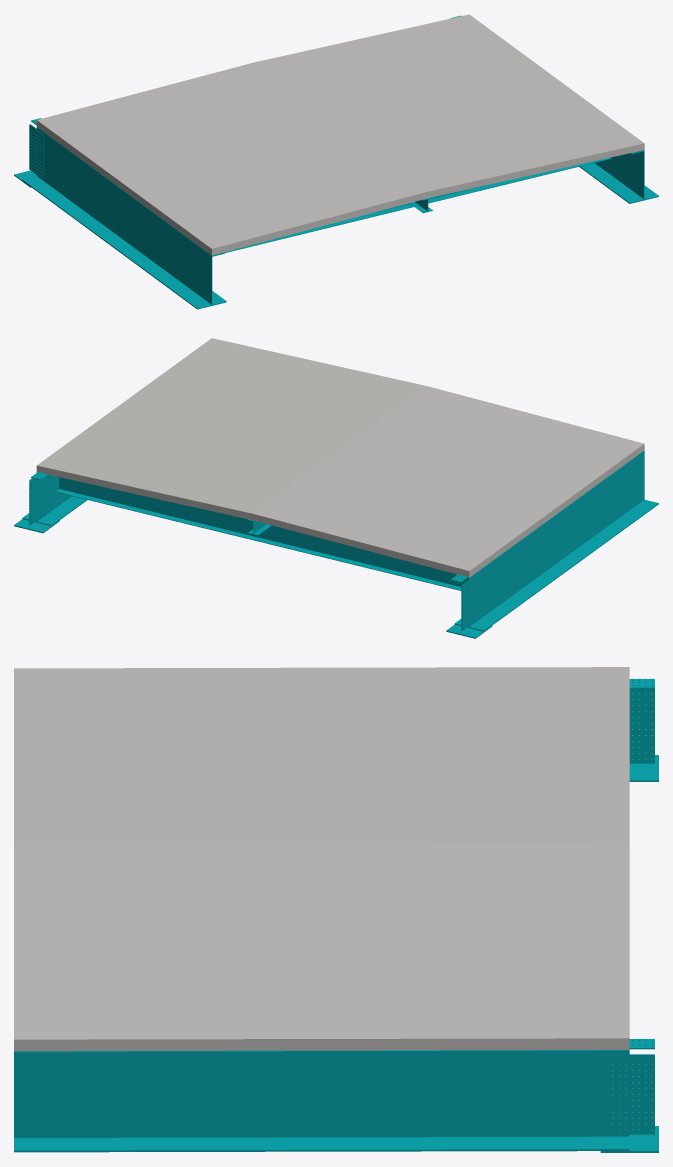
Rendered from DECK_NS07.glb.
The picture shows the model from 3 angles, top to bottom: view 1: azimuth 30°, elevation 25°; view 2: azimuth 150°, elevation 25°; view 3: azimuth 270°, elevation 25°; orthographic projection. The views are drawn at different scales.
Visible parts, largest first — view 1: NS07_Slab_15, NS07_G_W_0, NS07_G_E_1, NS07_FB_bf_14, NS07_SpliceW_17; view 2: NS07_Slab_15, NS07_G_W_0, NS07_FB_web_3, NS07_FB_bf_6, NS07_G_E_1, NS07_SpliceW_17, NS07_SpliceW_25; view 3: NS07_Slab_15, NS07_G_E_1, NS07_SpliceW_26, NS07_SpliceW_18.
Part boxes in pixels (x1,y1,x2,y2): NS07_Slab_15: (36,14,644,255); NS07_G_W_0: (22,127,226,309); NS07_G_E_1: (579,150,658,203); NS07_FB_bf_14: (224,157,611,252); NS07_SpliceW_17: (29,124,43,179); NS07_Slab_15: (36,338,644,577); NS07_G_W_0: (454,450,658,631); NS07_FB_web_3: (59,477,468,586); NS07_FB_bf_6: (55,489,461,590); NS07_G_E_1: (22,472,86,525); NS07_SpliceW_17: (462,575,476,630); NS07_SpliceW_25: (30,478,44,525); NS07_Slab_15: (14,667,629,1051); NS07_G_E_1: (14,1050,629,1152); NS07_SpliceW_26: (604,1055,654,1134); NS07_SpliceW_18: (629,689,654,763).
Size of the model in its own units: 18.26 by 2.39 by 12.57.
